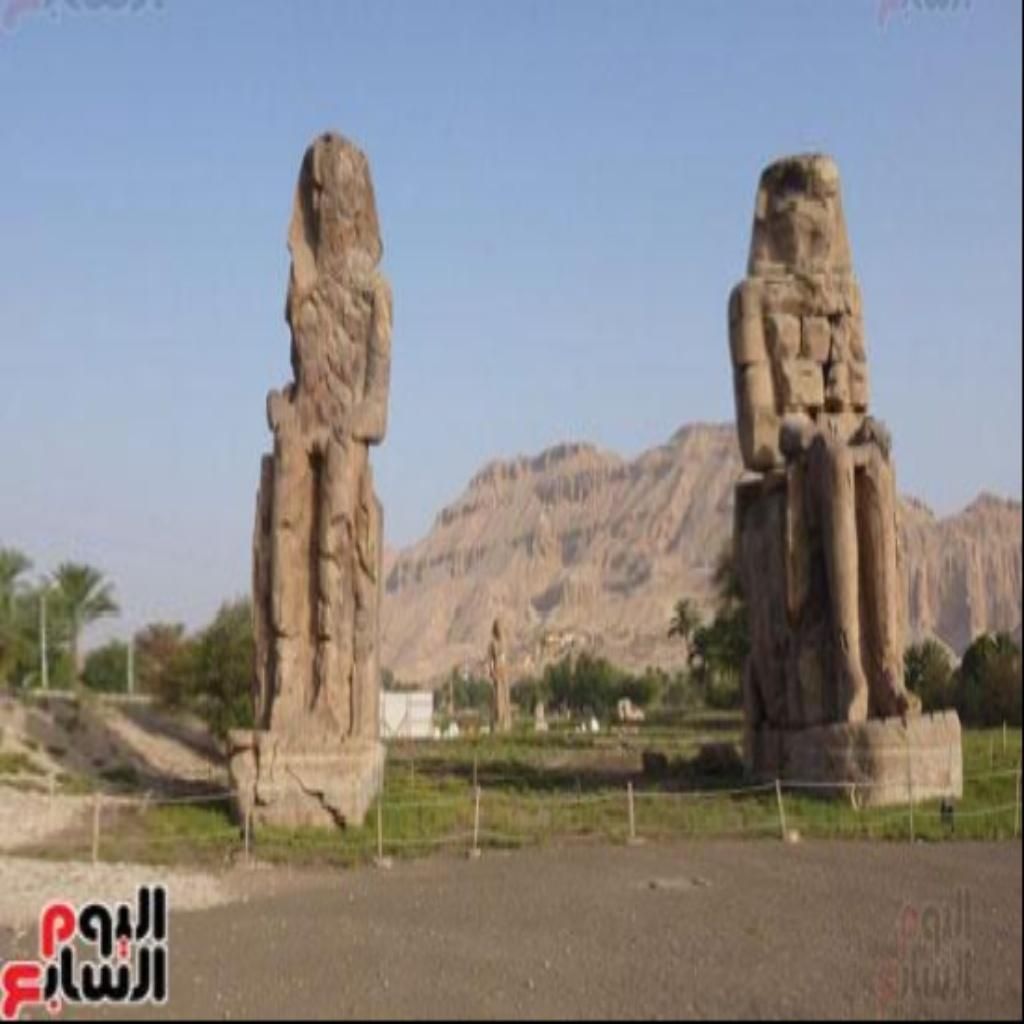Colossoi of Memnon: (714, 142, 962, 806), (226, 122, 394, 829)
